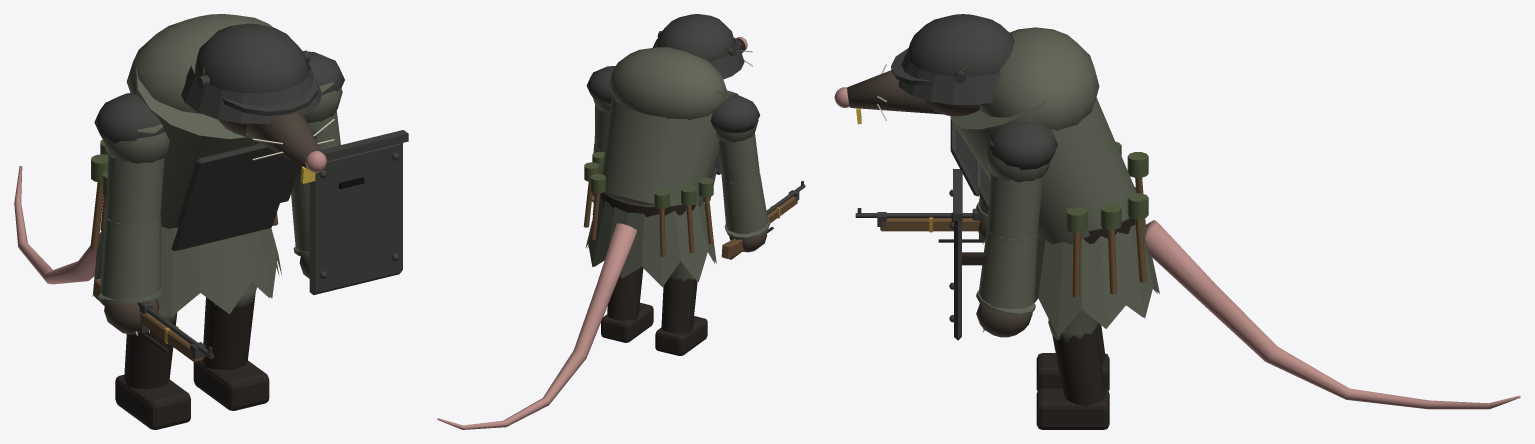
Rendered from rat_brute.glb.
3 renders of one model, left to right at view 1: azimuth 30°, elevation 25°; view 2: azimuth 150°, elevation 25°; view 3: azimuth 270°, elevation 25°, orthographic. The views are drawn at different scales.
Visible parts, largest first — view 1: torso_mesh, arm_L_mesh, head_mesh, arm_R_mesh, hips_mesh, leg_L_mesh, leg_R_mesh, tail_mesh, weapon; view 2: torso_mesh, hips_mesh, arm_R_mesh, tail_mesh, head_mesh, leg_R_mesh, leg_L_mesh, weapon, arm_L_mesh; view 3: torso_mesh, hips_mesh, head_mesh, arm_L_mesh, tail_mesh, leg_L_mesh, weapon, leg_R_mesh.
Part boxes in pixels (box(x1,y1,x2,y2)): torso_mesh: box(94, 14, 344, 251); arm_L_mesh: box(291, 70, 408, 295); head_mesh: box(181, 23, 334, 183); arm_R_mesh: box(98, 111, 169, 335); hips_mesh: box(90, 139, 282, 316); leg_L_mesh: box(193, 282, 269, 410); leg_R_mesh: box(115, 307, 190, 429); tail_mesh: box(14, 166, 101, 284); weapon: box(93, 278, 214, 362); torso_mesh: box(586, 47, 759, 206); hips_mesh: box(583, 151, 716, 287); arm_R_mesh: box(715, 120, 770, 252); tail_mesh: box(437, 223, 637, 429); head_mesh: box(652, 14, 752, 79); leg_R_mesh: box(655, 261, 707, 355); leg_L_mesh: box(601, 267, 653, 342); weapon: box(721, 181, 805, 259); arm_L_mesh: box(592, 98, 610, 202); torso_mesh: box(950, 27, 1136, 244); hips_mesh: box(1034, 141, 1159, 336); head_mesh: box(834, 14, 1014, 124); arm_L_mesh: box(949, 137, 1049, 340); tail_mesh: box(1145, 220, 1520, 409); leg_L_mesh: box(1036, 310, 1109, 429); weapon: box(855, 208, 983, 242); leg_R_mesh: box(1036, 323, 1109, 390).
Bounding box in the file's own units: 1.85 × 2.65 × 4.28.
